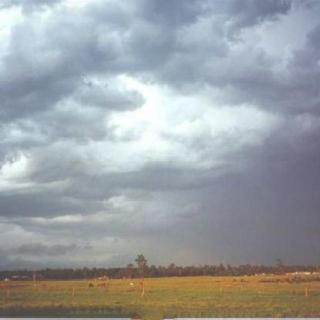Stratus: (0, 0, 320, 241)
